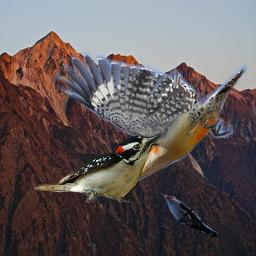Cuckoo: (161, 193, 218, 237)
Woodpecker: (55, 52, 247, 195), (34, 131, 161, 203)
